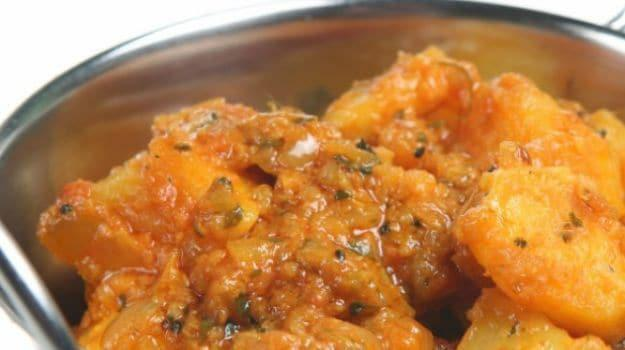DumAloo: (37, 42, 625, 350)
